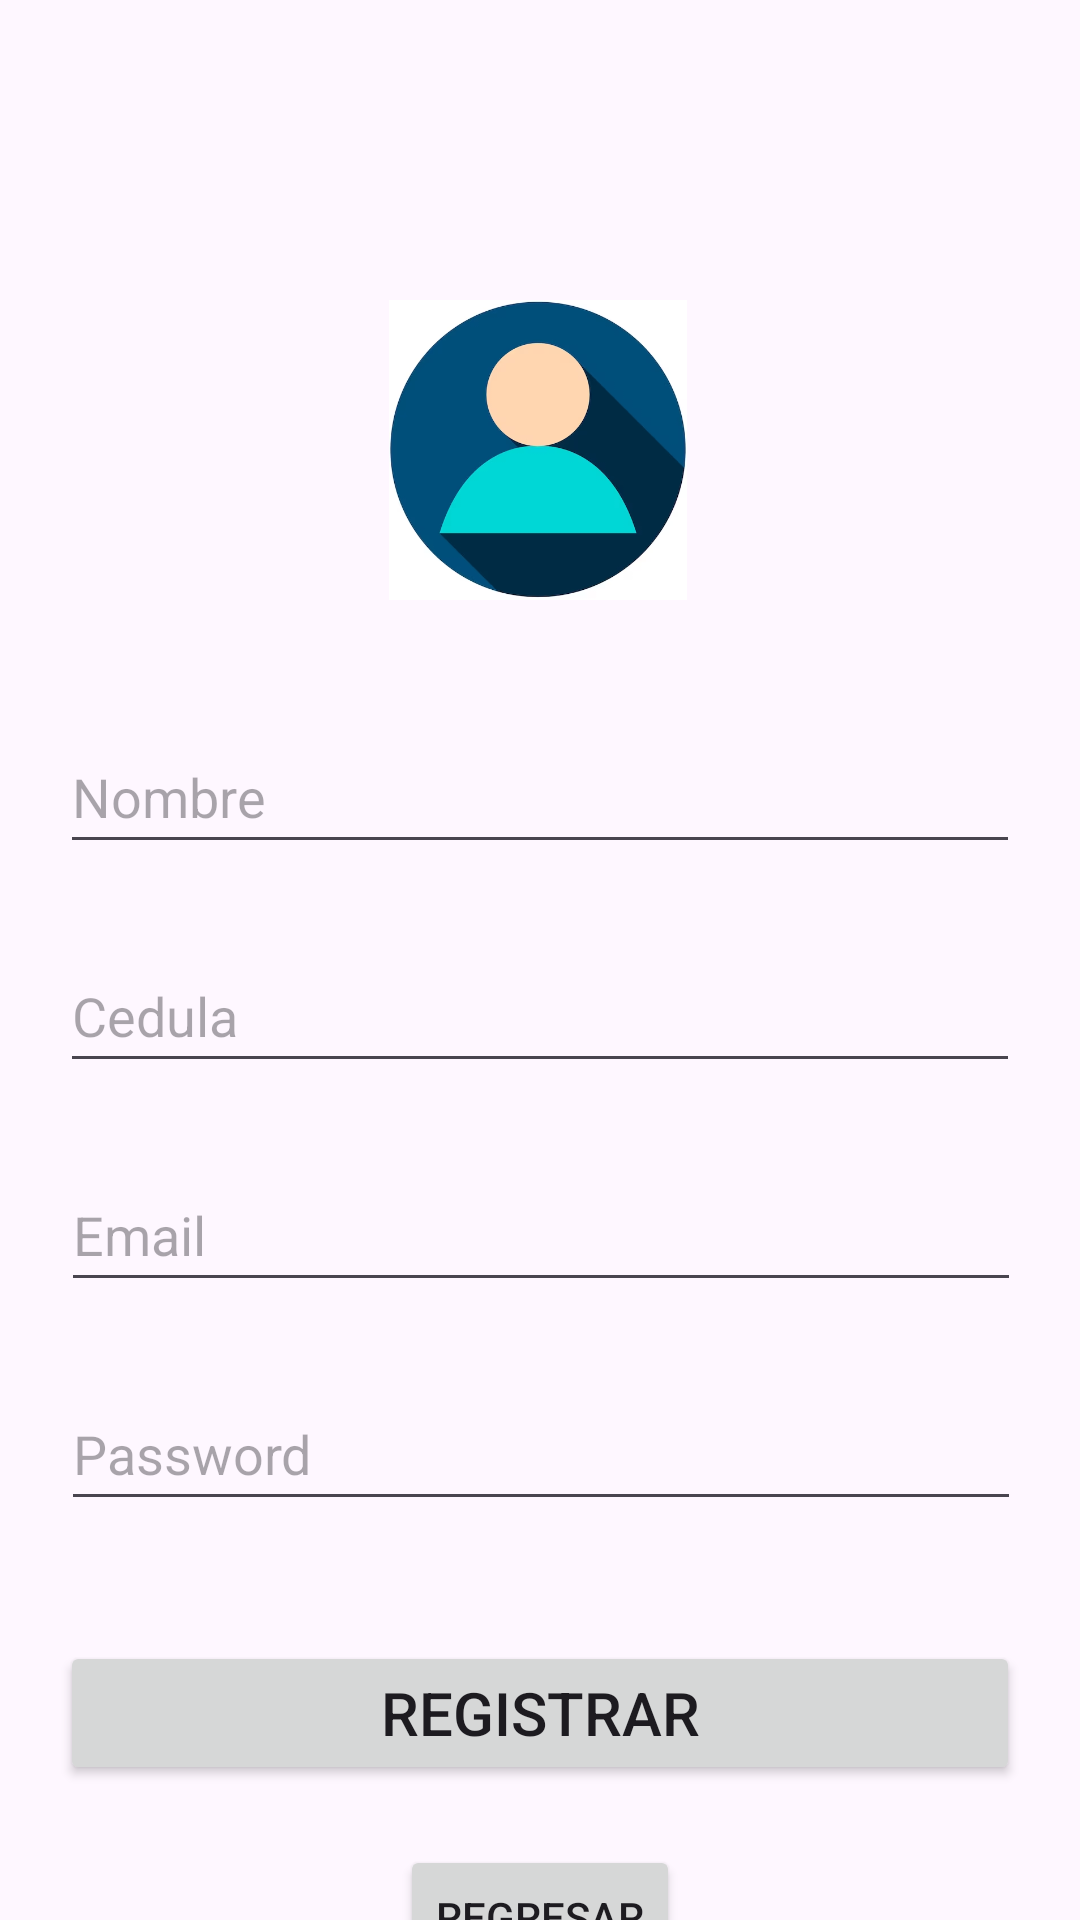

Icons on this 1080w x 1920h Android screen, each with the point to tap as (x,y):
persona: (538,449)
